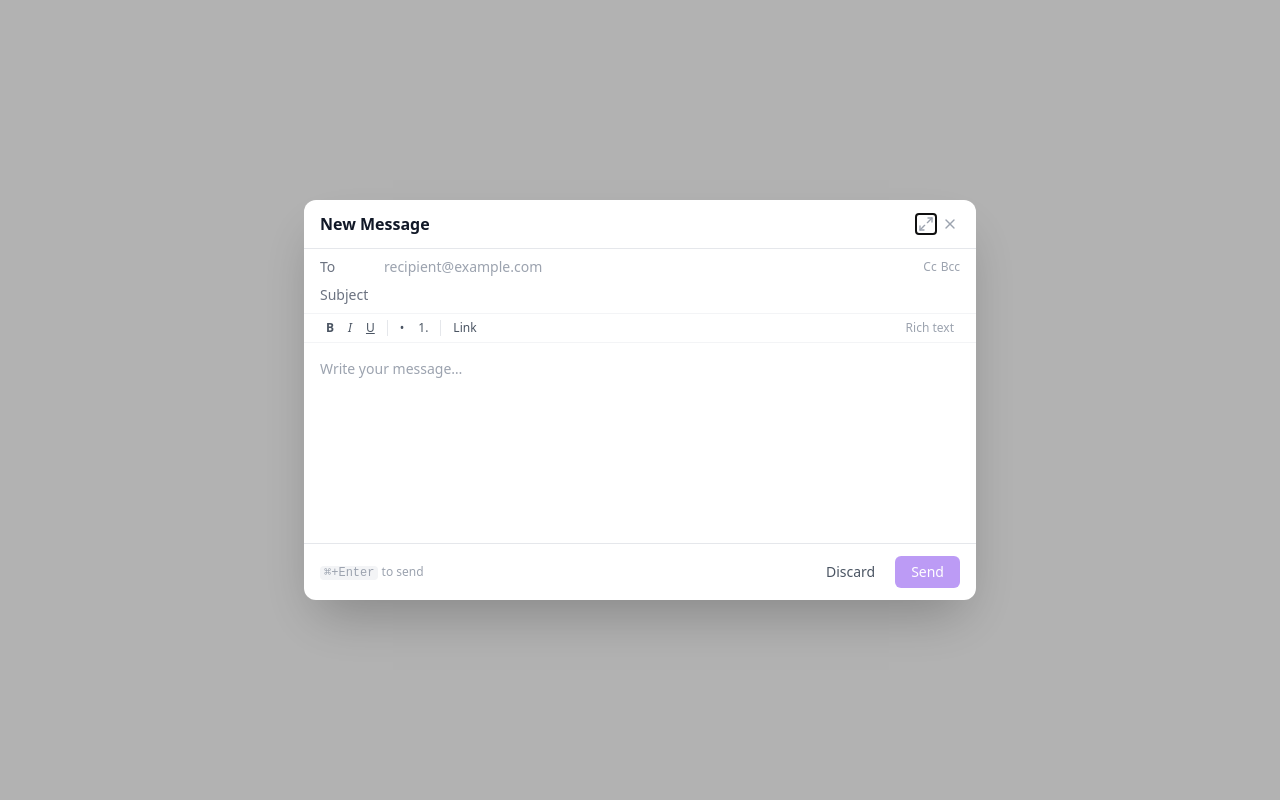
Test: ComposeModal › shows validation error for invalid email in CC field
The image size is (1280, 800).
Type "valid@test.com" into the field with placeholder "recipient@example.com" at x=650, y=267, box [384,257,915,277]
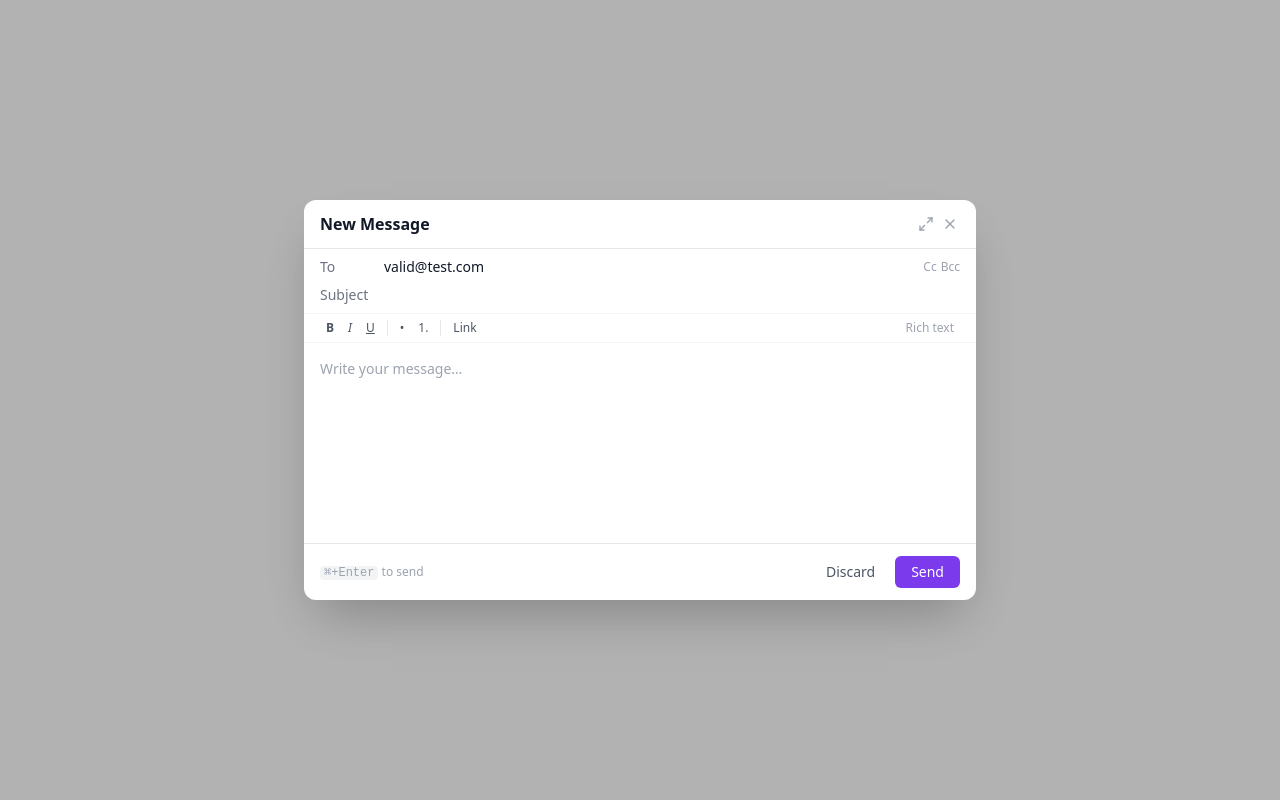
Click the button "Cc" at x=930, y=267, box [923,259,937,275]
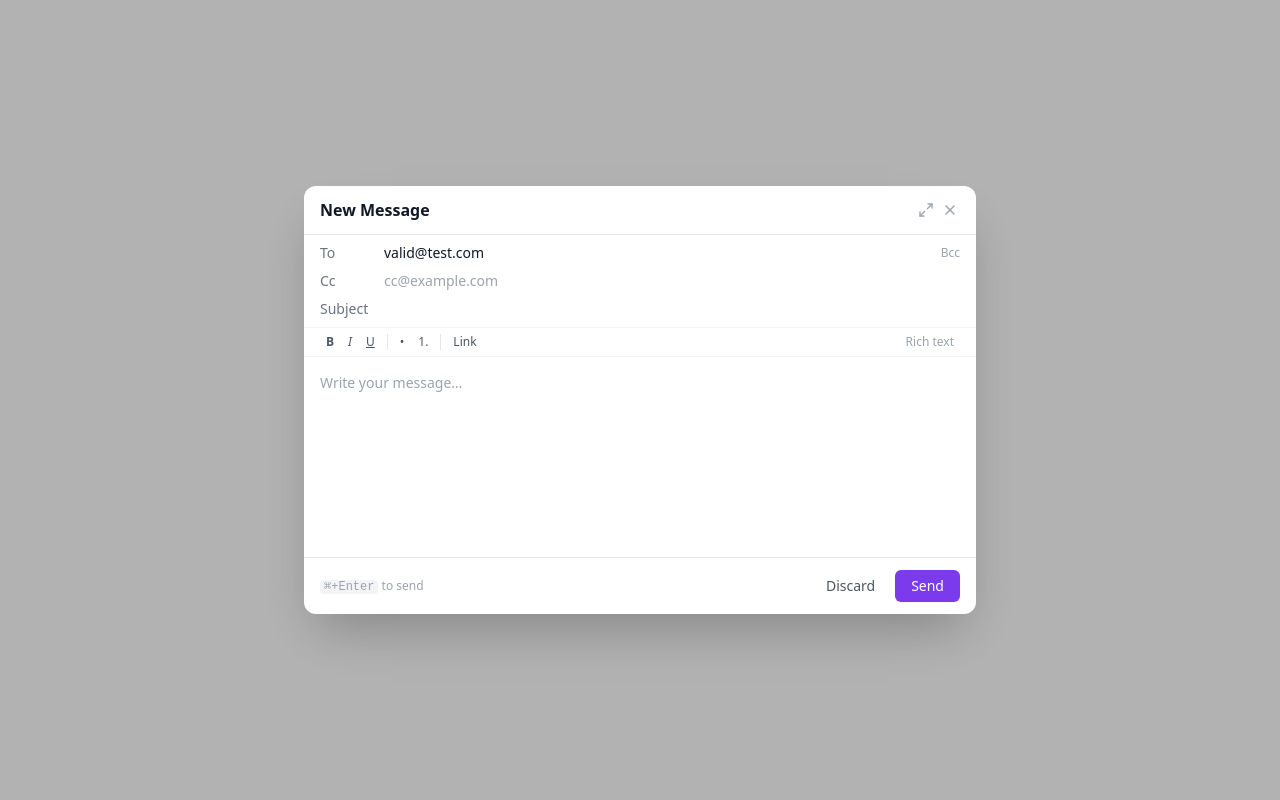
Type "bad-cc" into the field with placeholder "cc@example.com" at x=672, y=281, box [384,271,960,291]
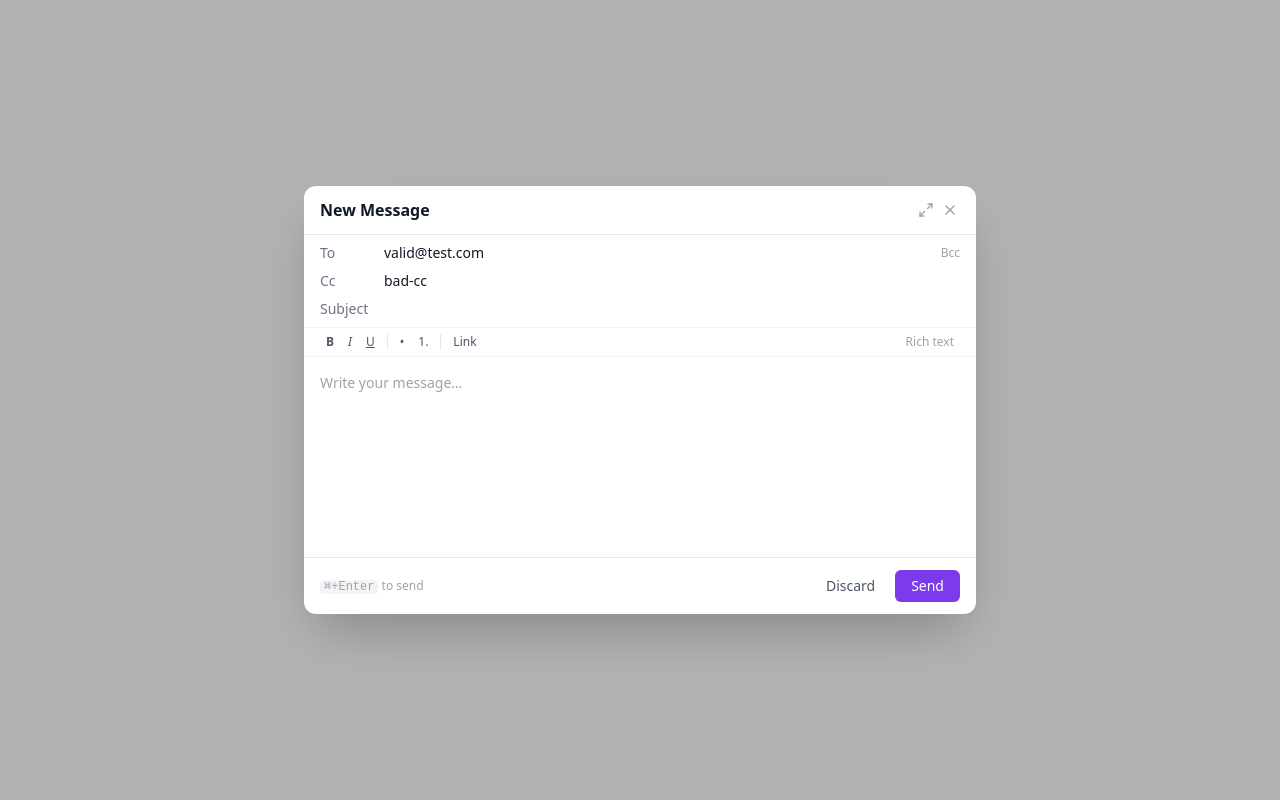
Click the button "Send" at x=928, y=586, box [895,570,960,602]
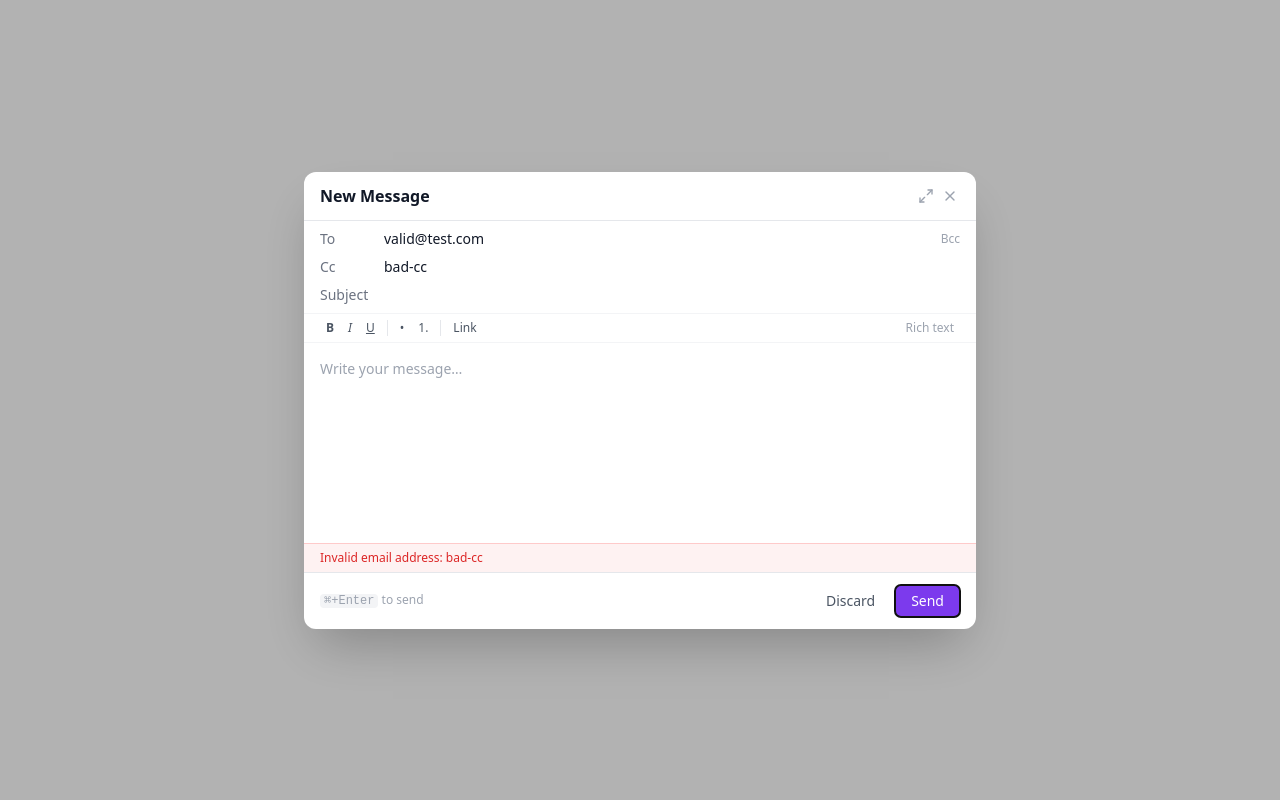
Expected: the text "Invalid email address: bad-cc" is shown, [304,542,976,572]
